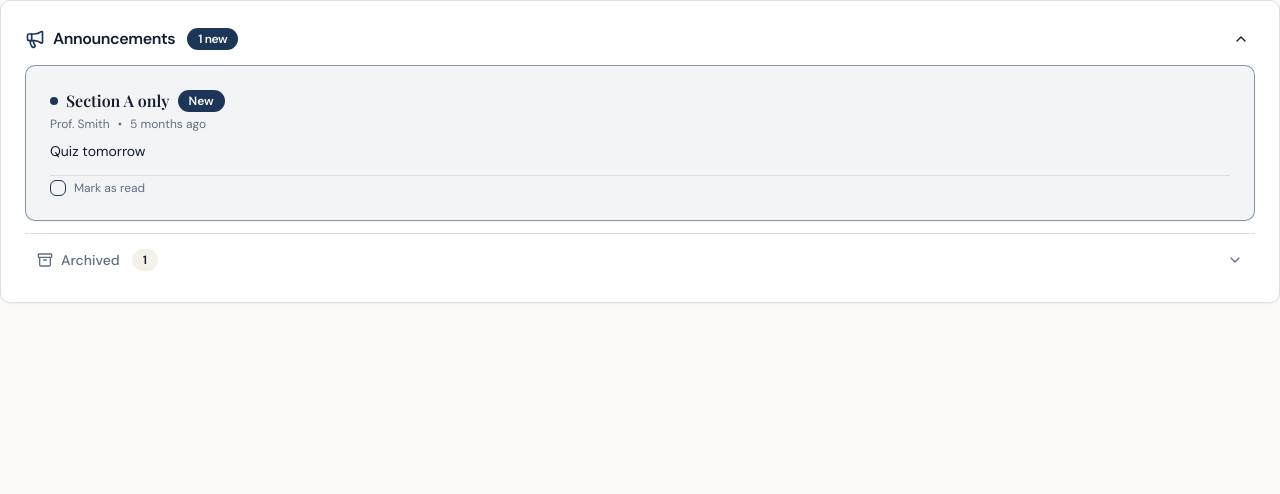
AnnouncementsSection › hides expired announcements from the active list and shows them behind the Archived toggle
Expected: the heading "Section A only" is shown, [66,91,170,111]
Expected: the text "Old news" is not shown
Step 1. Click the button "Archived 1" → (90, 260), box [25,242,1255,278]
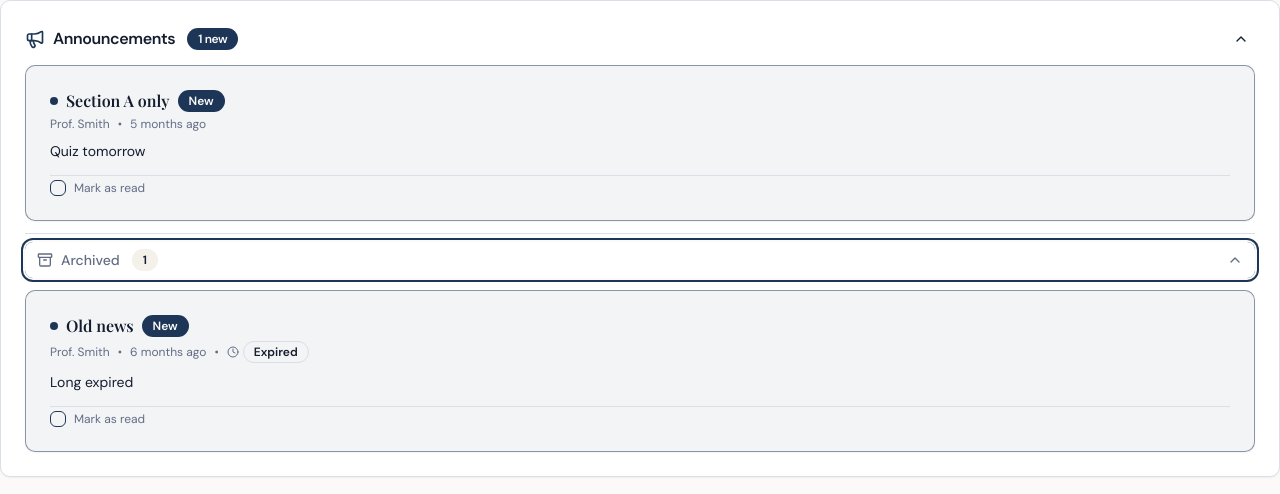
Now the heading "Old news" is shown, box [66,316,134,336]
